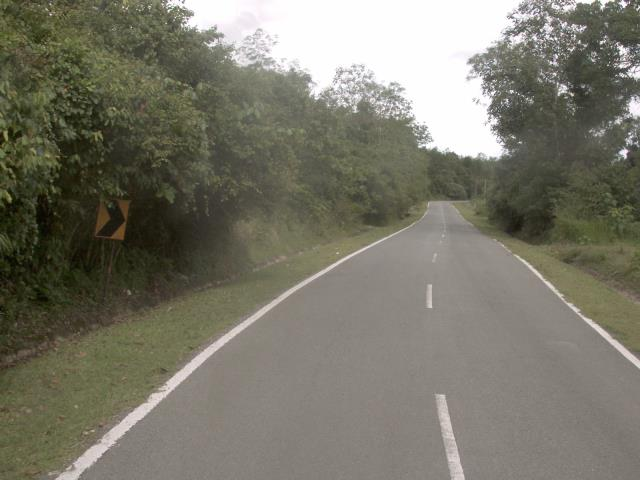traffic_sign: (84, 187, 137, 250)
